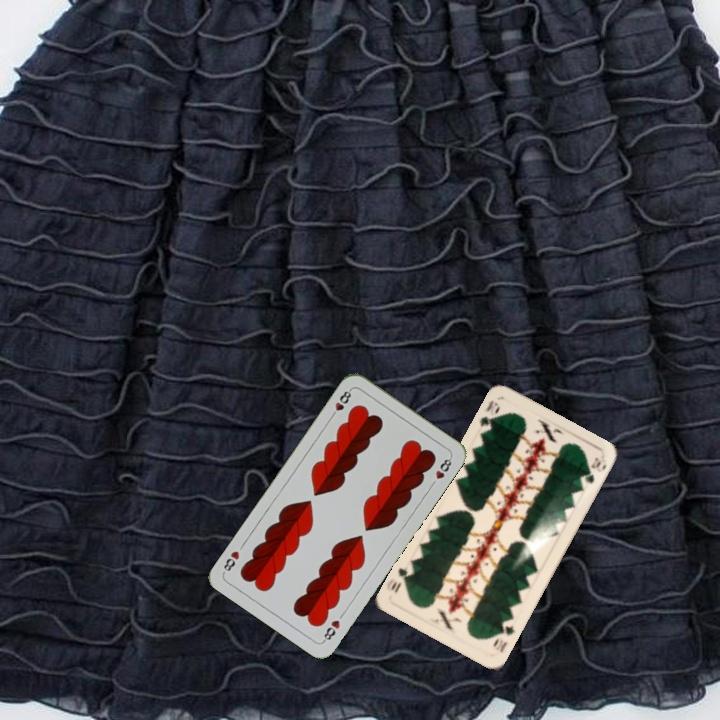G10: (489, 622, 519, 655), (475, 396, 500, 429)
H8: (327, 385, 354, 421), (319, 616, 343, 645)
